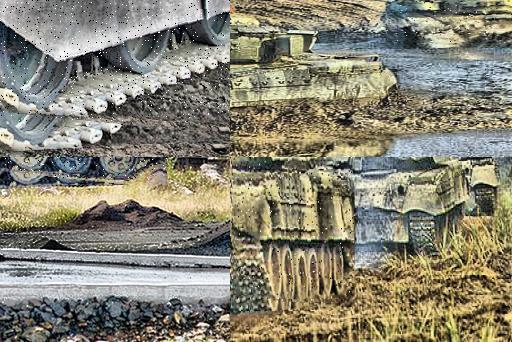tanks: (1, 1, 231, 123), (232, 158, 356, 301), (231, 18, 396, 108), (319, 158, 469, 255), (387, 1, 512, 45), (1, 158, 167, 179), (457, 158, 500, 217)
